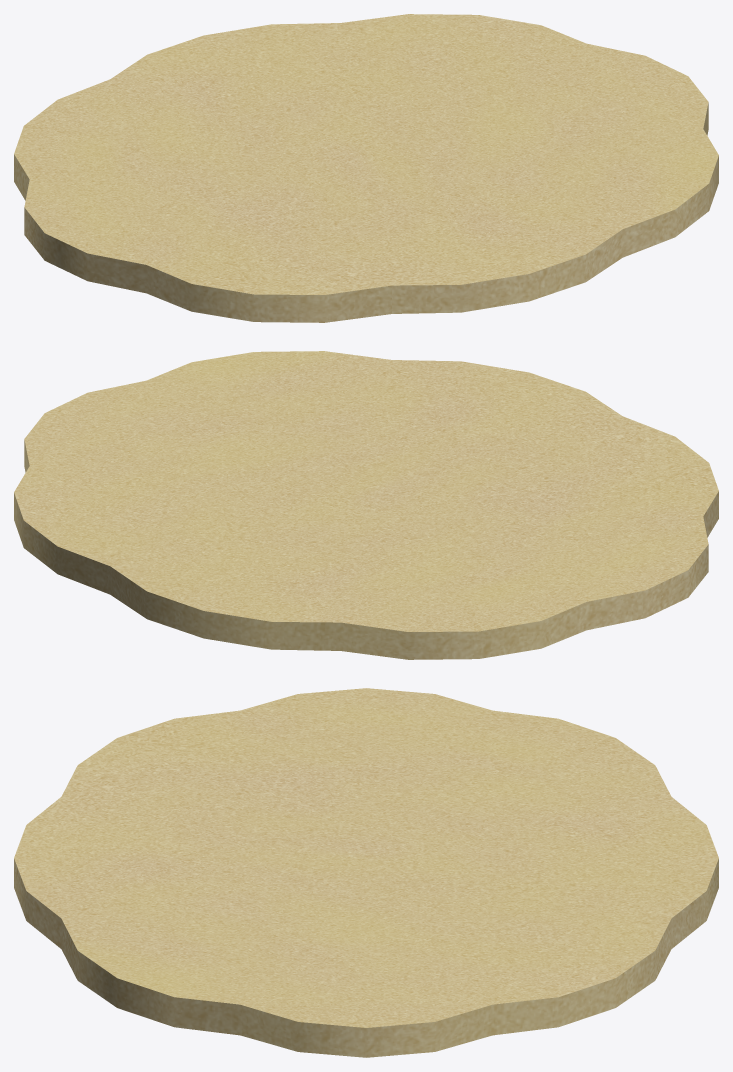
The model's file is ArenaSelector.fbx.
The picture shows the model from 3 angles, top to bottom: view 1: azimuth 30°, elevation 25°; view 2: azimuth 150°, elevation 25°; view 3: azimuth 270°, elevation 25°; orthographic projection. The views are drawn at different scales.
Visible parts, largest first — view 1: Cylinder; view 2: Cylinder; view 3: Cylinder.
Boxes of the visible parts, x1=… form: Cylinder: x1=14, y1=14, x2=718, y2=322; Cylinder: x1=14, y1=351, x2=718, y2=659; Cylinder: x1=14, y1=688, x2=718, y2=1057.
Bounding box in the file's own units: 803 × 33.92 × 704.
